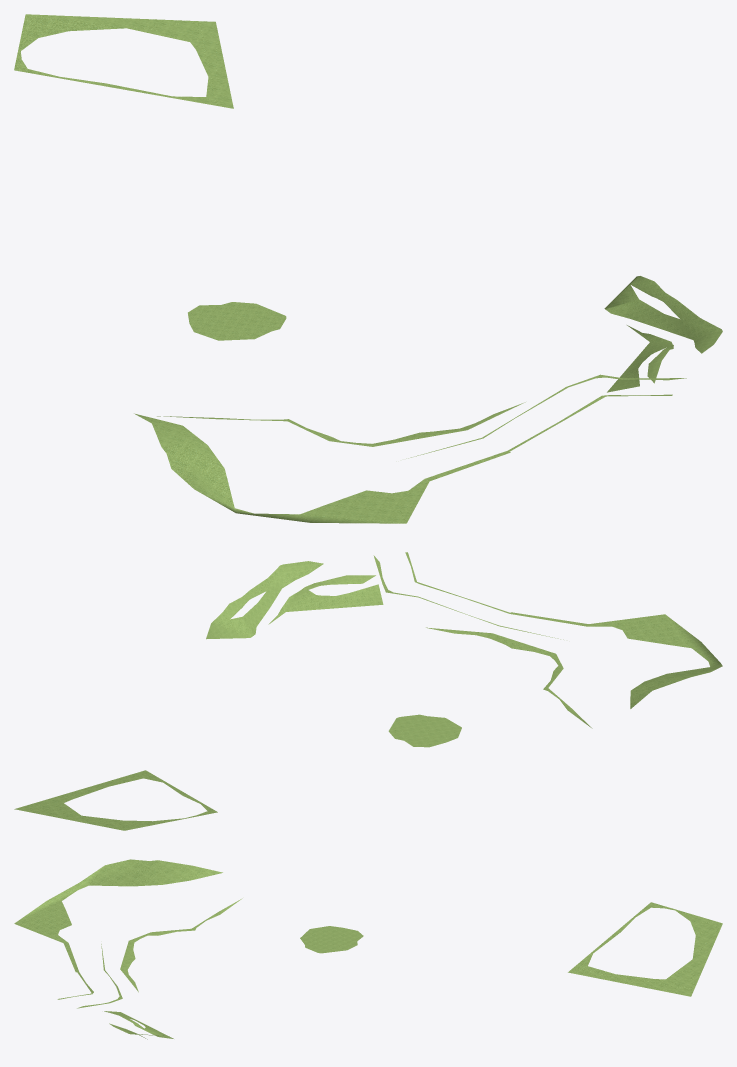
Rendered from kd_stage_13612f_4_25_bounded.glb.
3 views of the same model, one above another, from view 1: azimuth 30°, elevation 25°; view 2: azimuth 150°, elevation 25°; view 3: azimuth 270°, elevation 25° (orthographic). The views are drawn at different scales.
Visible parts, largest first — view 1: kd_stage_13612f_4_25_bounded; view 2: kd_stage_13612f_4_25_bounded; view 3: kd_stage_13612f_4_25_bounded.
Boxes of the visible parts, left/top/right/bottom form: kd_stage_13612f_4_25_bounded: left=14, top=14, right=722, bottom=523; kd_stage_13612f_4_25_bounded: left=14, top=552, right=722, bottom=830; kd_stage_13612f_4_25_bounded: left=14, top=859, right=722, bottom=1039.
Size of the model in its own units: 57.85 by 7.91 by 97.36.
1 material, 1 textured.
